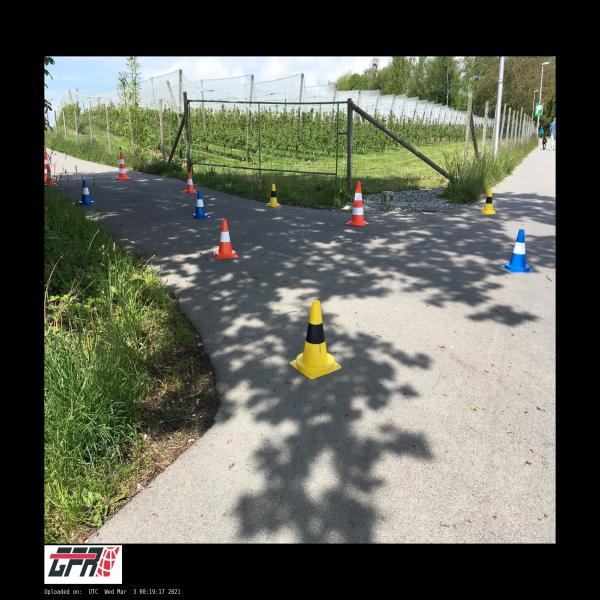blue_cone: (501, 230, 534, 272), (190, 191, 210, 219), (78, 181, 95, 205)
large_orange_cone: (346, 182, 369, 226), (116, 152, 131, 180), (44, 154, 54, 180)
orange_cone: (214, 220, 238, 259), (44, 166, 58, 188), (184, 173, 196, 193)
yellow_cone: (290, 301, 341, 379), (265, 184, 282, 207), (481, 189, 496, 214)
